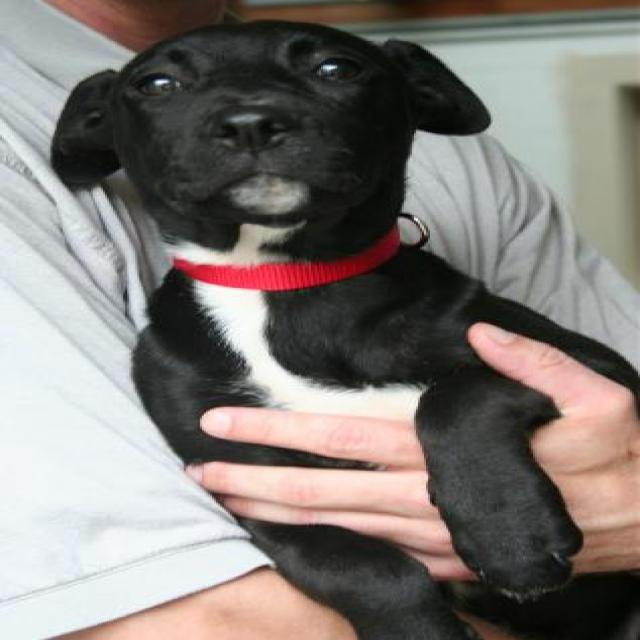dogs: (50, 17, 640, 640)
